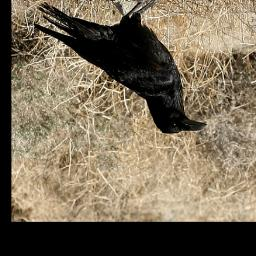Crow: (33, 0, 207, 135)
